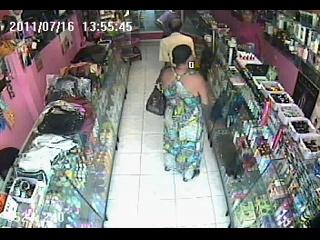Normal: (156, 58, 208, 181), (158, 20, 196, 70), (155, 10, 181, 38), (146, 85, 166, 116)
